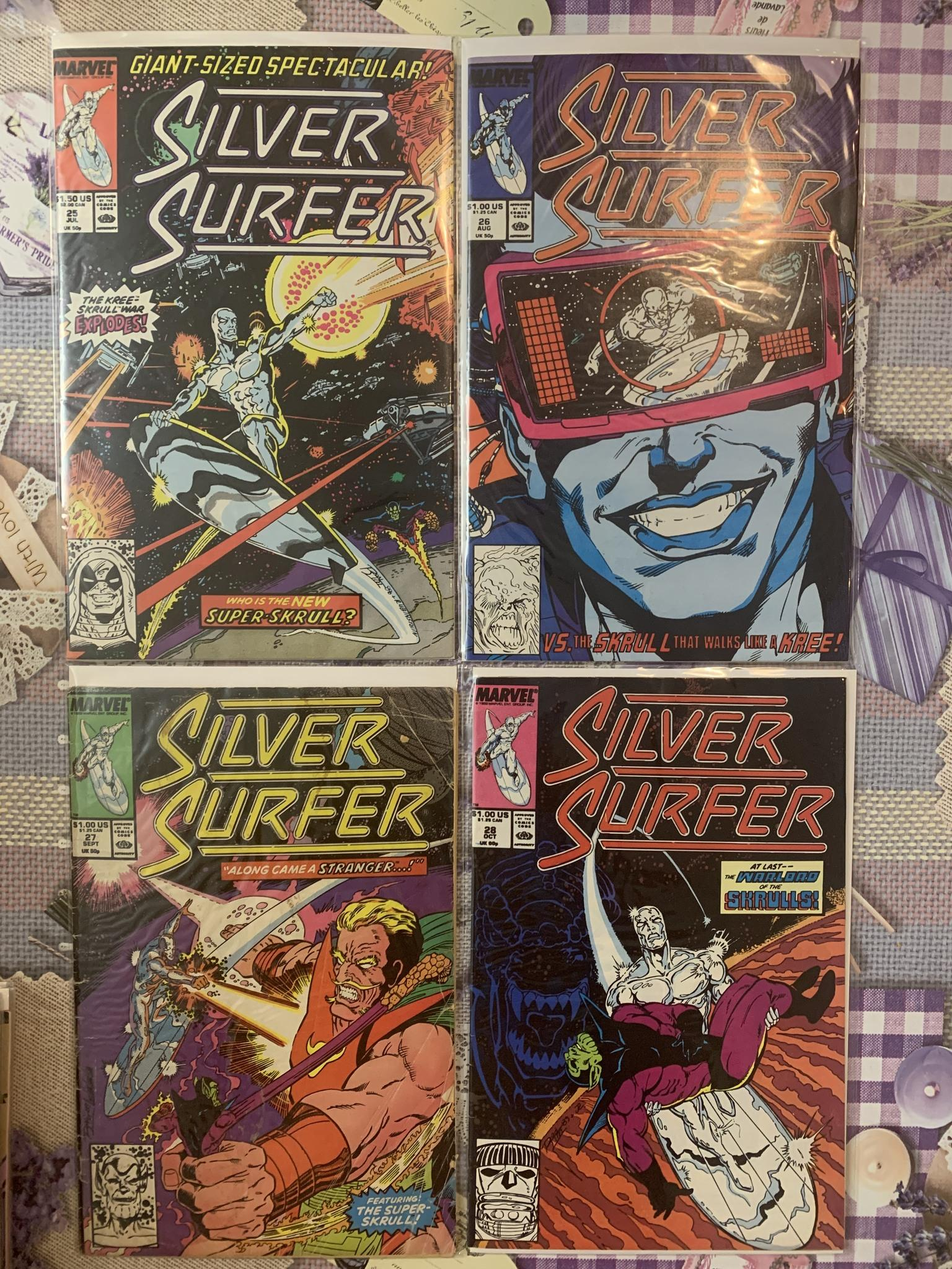comic: (54, 33, 455, 661), (461, 37, 857, 662), (464, 668, 854, 1254), (69, 667, 454, 1260)
